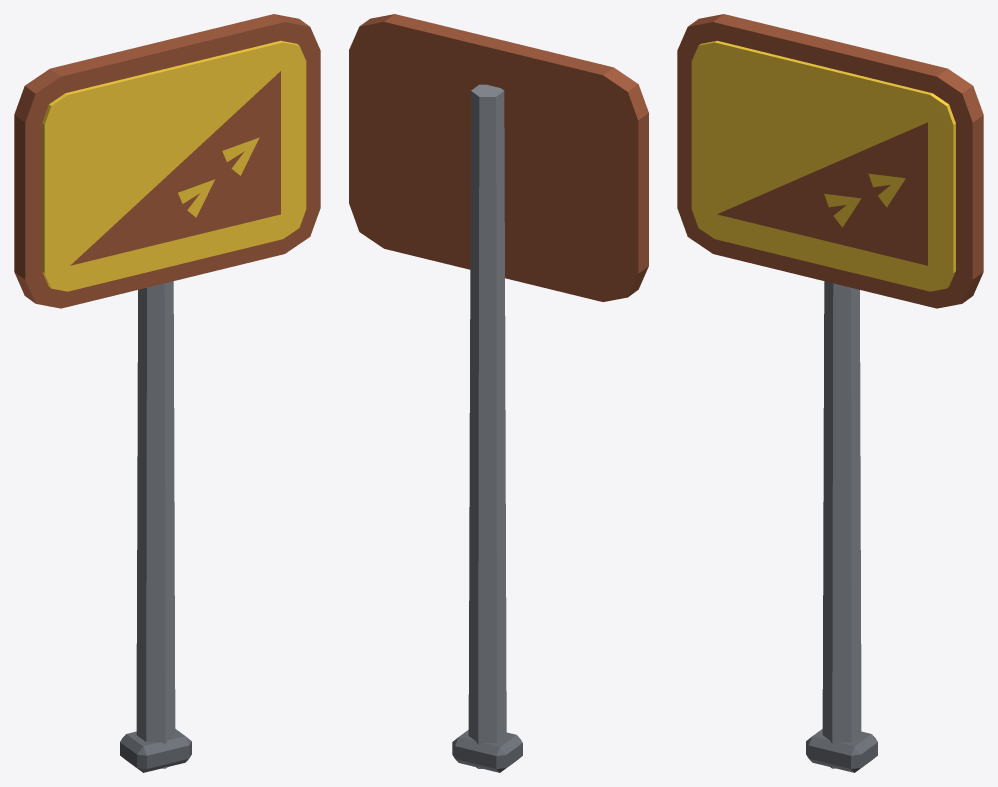
Rendered from sign-steep.glb.
3 renders of one model, left to right at view 1: azimuth 30°, elevation 25°; view 2: azimuth 150°, elevation 25°; view 3: azimuth 330°, elevation 25°, orthographic. The views are drawn at different scales.
Visible parts, largest first — view 1: sign-steep; view 2: sign-steep; view 3: sign-steep.
Boxes of the visible parts, x1,y1,x2,y2 form: sign-steep: [14, 14, 320, 772]; sign-steep: [349, 14, 648, 772]; sign-steep: [677, 14, 983, 772].
Bounding box in the file's own units: 1.4 × 3.28 × 0.264.
